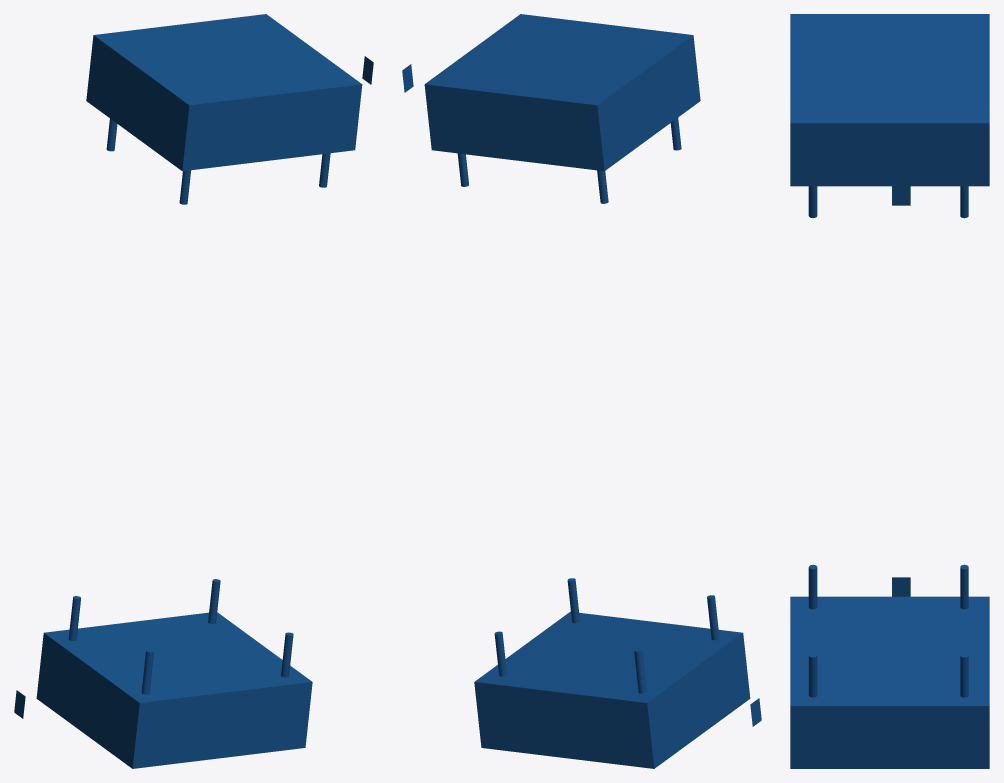
The picture shows the model from 3 angles, left to right: view 1: azimuth 30°, elevation 25°; view 2: azimuth 150°, elevation 25°; view 3: azimuth 270°, elevation 25°; orthographic projection. The views are drawn at different scales.
Visible parts, largest first — view 1: part_0000; view 2: part_0000; view 3: part_0000.
Part boxes in pixels (x1=…): part_0000: x1=14, y1=14, x2=373, y2=768; part_0000: x1=402, y1=14, x2=761, y2=768; part_0000: x1=790, y1=14, x2=989, y2=768.
Bounding box in the file's own units: 0.4997 × 0.9133 × 0.237.
